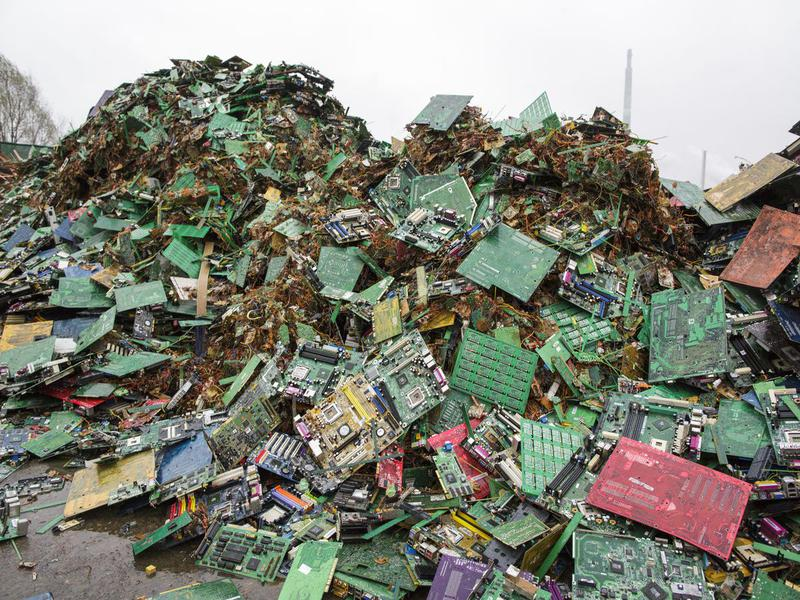circuit_board: (290, 328, 453, 484), (583, 429, 753, 563), (450, 216, 563, 306), (643, 284, 734, 386), (449, 324, 540, 416), (516, 408, 587, 522), (718, 197, 800, 292), (61, 447, 161, 524), (191, 514, 296, 587), (700, 150, 799, 211), (207, 395, 283, 466), (405, 85, 477, 136), (308, 241, 367, 293), (70, 304, 121, 356), (1, 334, 60, 377), (19, 427, 80, 461), (514, 88, 557, 135), (159, 239, 203, 278)
